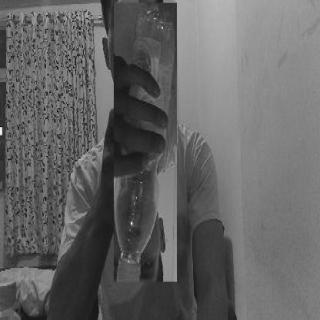plastic_bottles: (114, 3, 177, 282)
